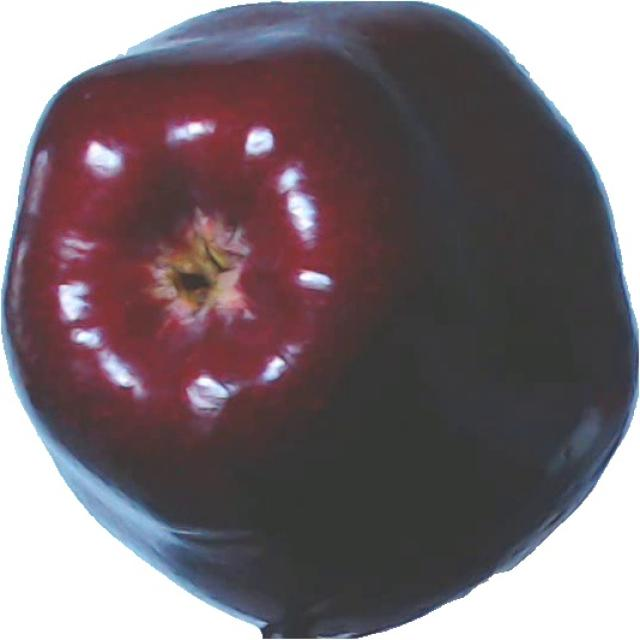Scartlet Spur Elma: (0, 0, 638, 638)
